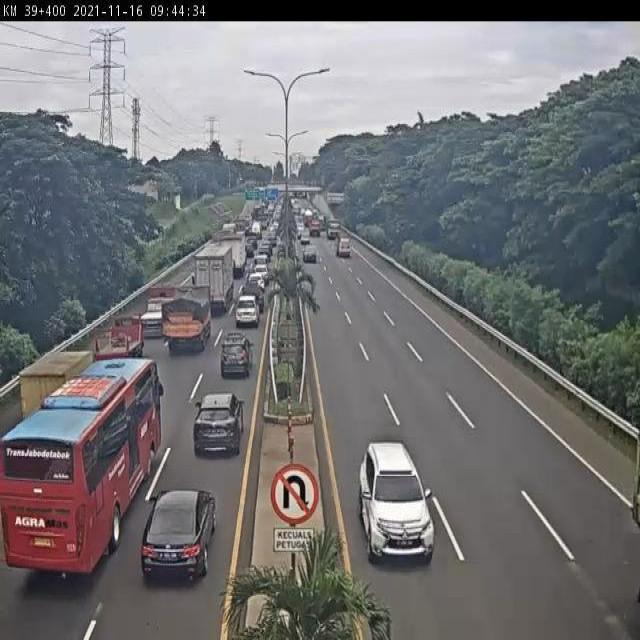car: (357, 440, 434, 564), (141, 491, 217, 581), (192, 396, 244, 457), (219, 335, 250, 377), (232, 302, 257, 334), (241, 289, 264, 312), (247, 270, 266, 290)
small truck: (13, 351, 97, 428), (91, 317, 142, 372), (137, 286, 176, 338)
truck-l-: (191, 244, 234, 311)
truck-m-: (4, 356, 163, 583), (160, 289, 210, 360), (219, 235, 247, 276)
